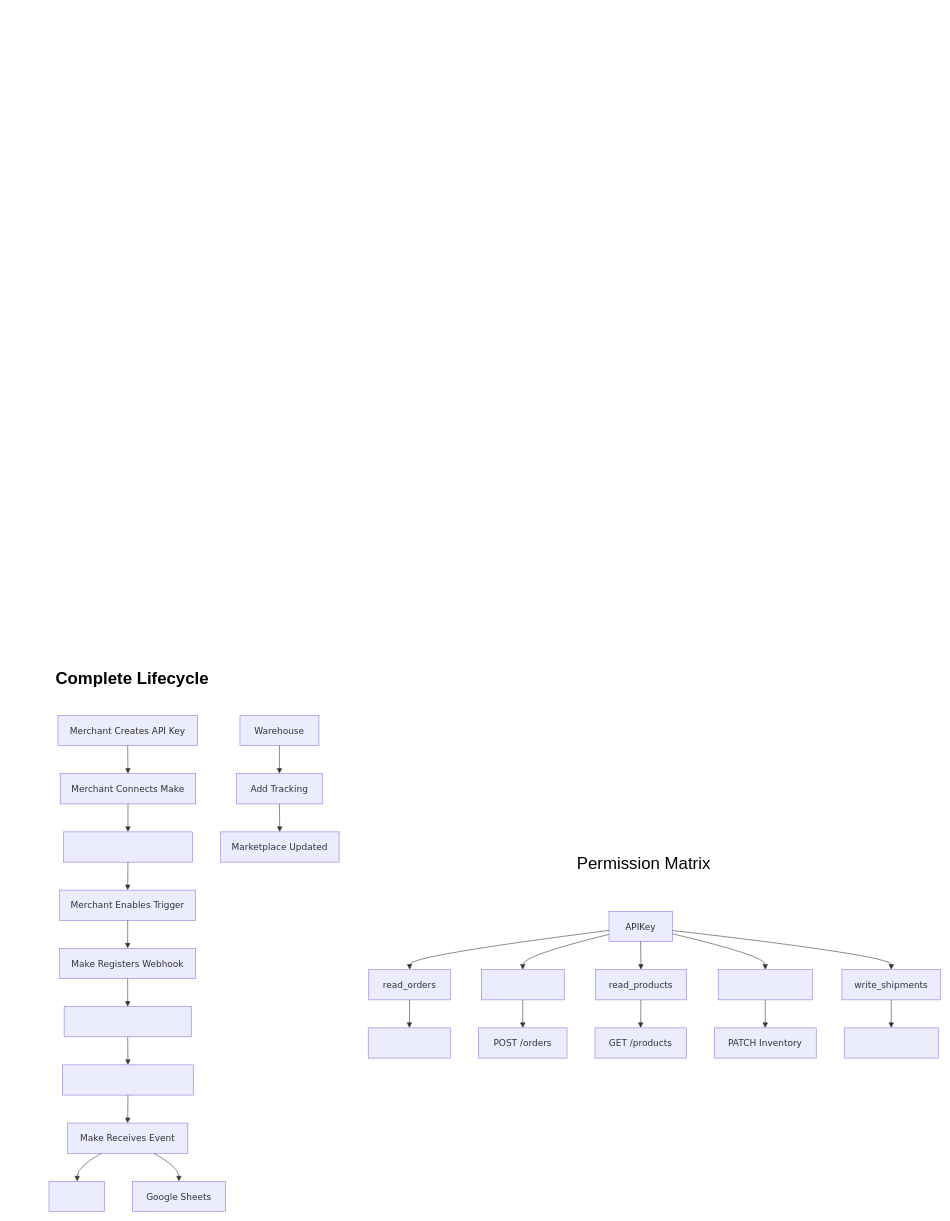
Image size: 950x1221. Some labels were removed from this diagram. Each missing label, with the centre of its shape:
"Backend Fires Webhook" belongs at (127,1079).
"Customer Places Order" belongs at (127,1021).
"GET /orders" belongs at (409,1042).
"Make Validates API Key" belongs at (127,846).
"POST Tracking" belongs at (891,1042).
"Slack" belongs at (76,1196).
"write_inventory" belongs at (765,984).
"write_orders" belongs at (522,984).
